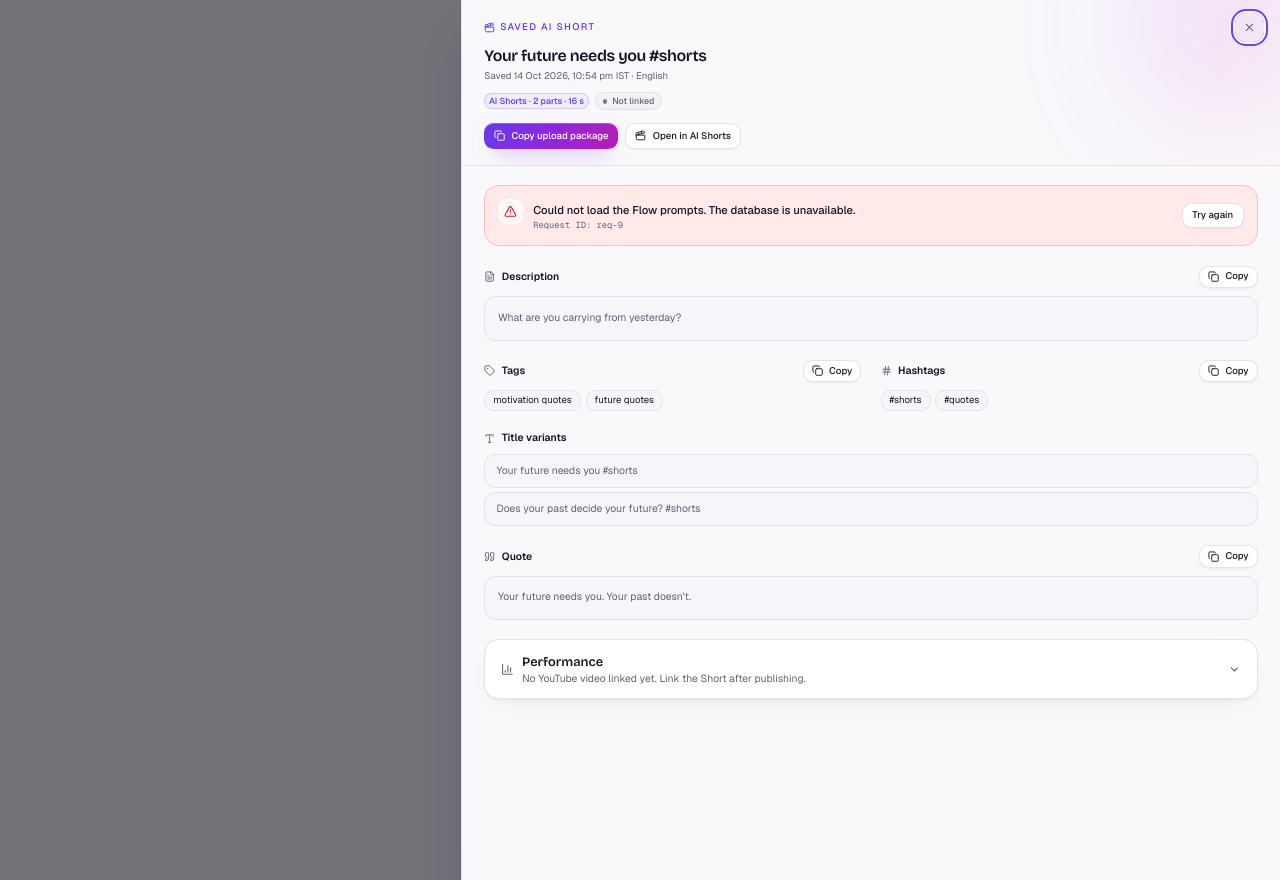
it: HistoryDetail for an AI Shorts package › reports a plan that could not be loaded, and loads it on retry
Expected: the message shows "Could not load the Flow prompts. The database is unavailable.", [533, 203, 855, 217]
Expected: the message shows "Request ID: req-9", [484, 185, 1258, 246]
Click the button "Try again": (1213,216) [1182, 203, 1244, 228]
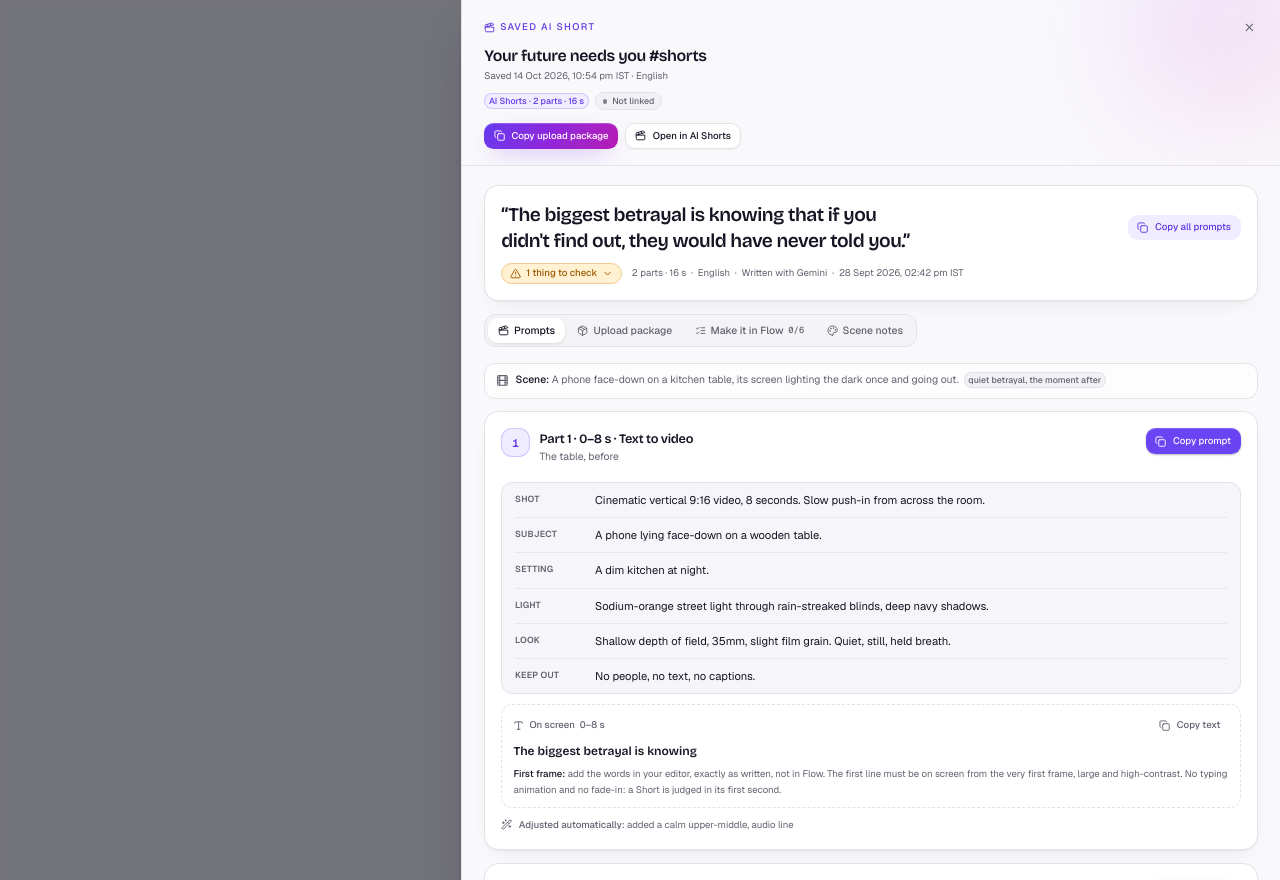
Result: the number of elements with test id "shot-card" is 2
Result: the message "Could not load the Flow prompts. The database is unavailable. Request ID: req-9" is gone
